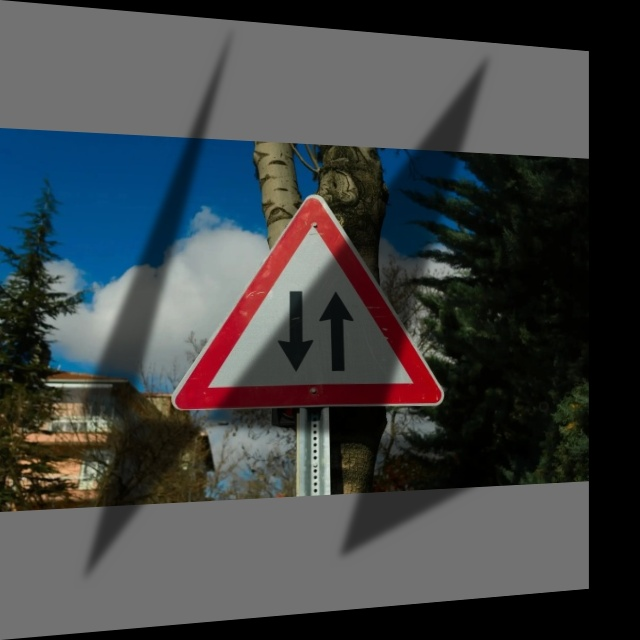Mandatory_Two_Way_Traffic: (173, 190, 444, 417)
